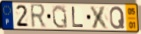2: (15, 4, 30, 28)
L: (71, 6, 85, 29)
Q: (51, 4, 69, 29), (109, 6, 126, 30)
R: (29, 3, 47, 30)
X: (89, 6, 111, 31)
